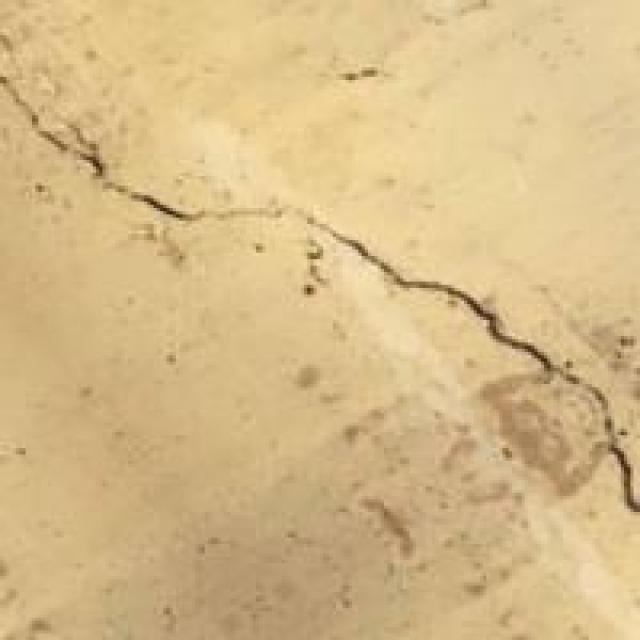crack: (6, 64, 634, 515)
